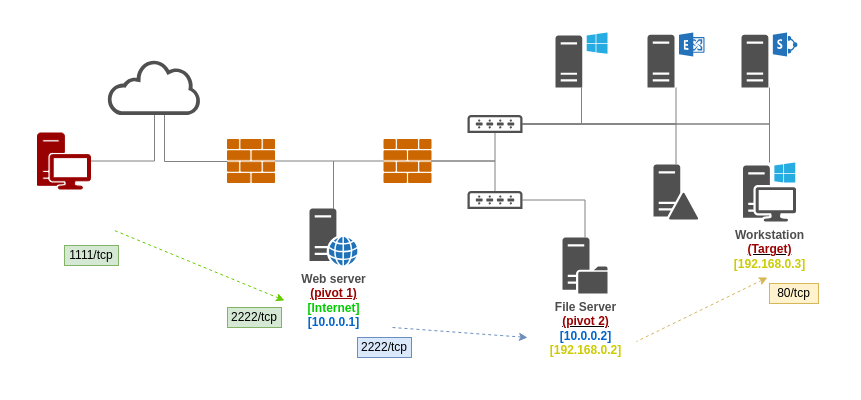
This 861x400 diagram has some shape labels left out. Each missing label, with the centre of its shape:
"Attacker [Internet]" goes at (63,160).
"External Firewall" goes at (250,160).
"Internal Firewall" goes at (407,160).
